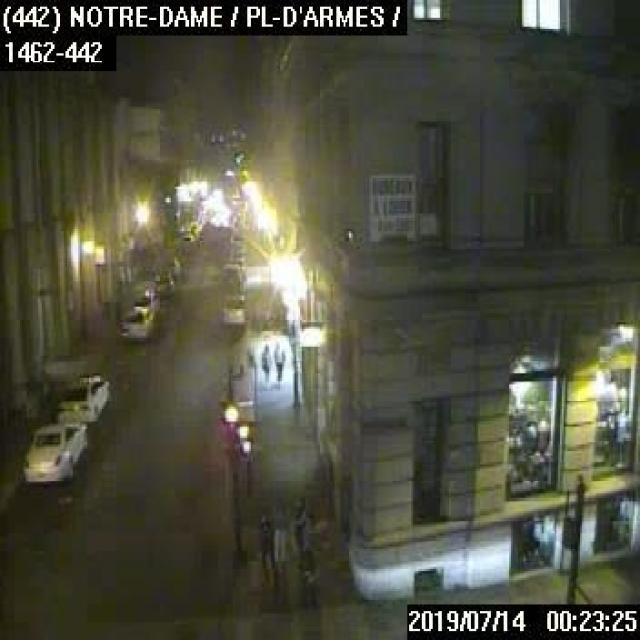pedestrian: (289, 498, 305, 568), (302, 512, 317, 580), (258, 504, 273, 569), (258, 339, 271, 389), (272, 341, 284, 388)
vehicle: (18, 420, 85, 484), (56, 371, 110, 422), (114, 298, 154, 338), (133, 283, 159, 312), (216, 296, 244, 322), (152, 270, 174, 298), (218, 262, 241, 285), (157, 249, 178, 274), (176, 233, 193, 250)
